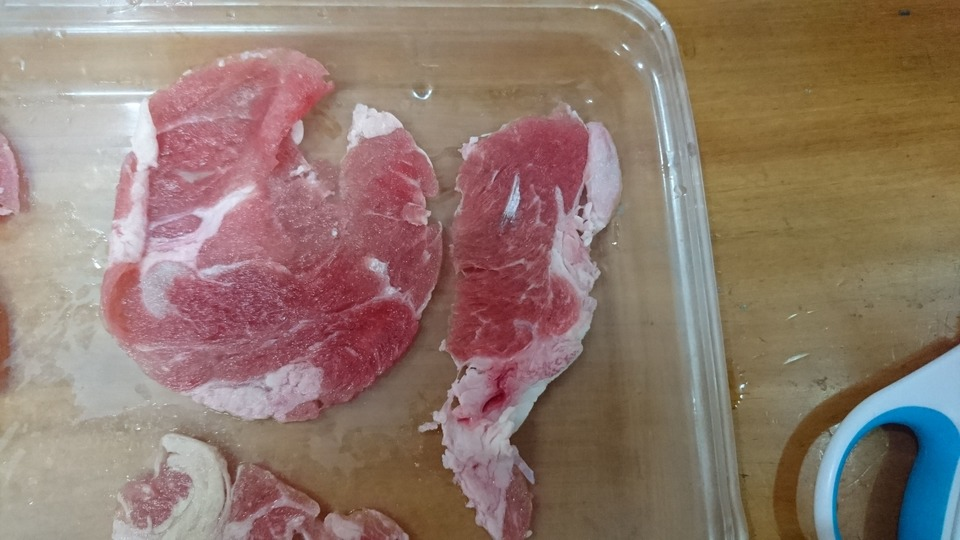restructured meat: (104, 52, 434, 424), (438, 109, 647, 529), (111, 437, 418, 540)
